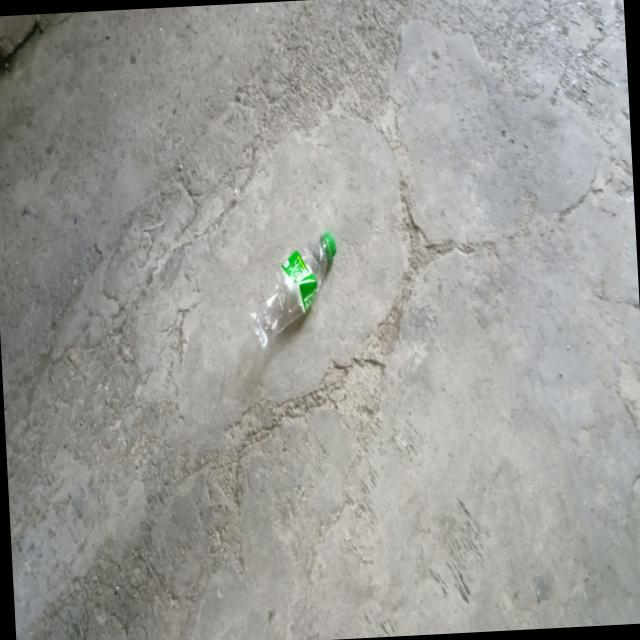Bottle: (251, 232, 336, 347)
